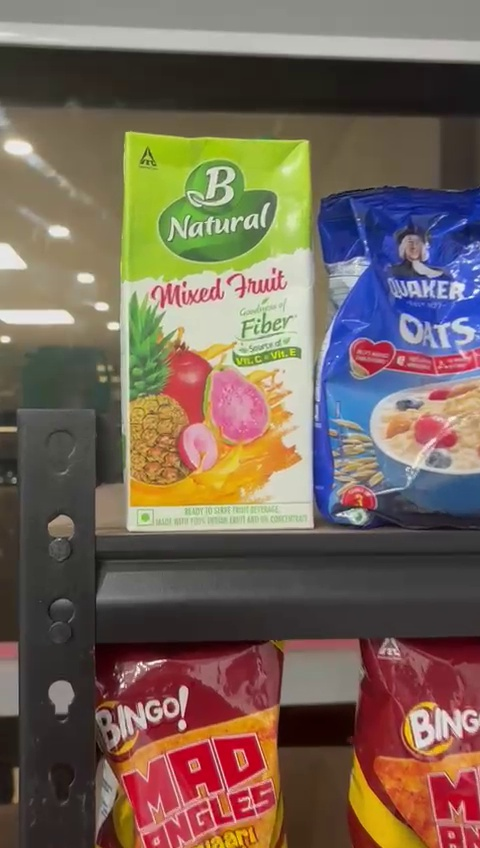Mixed Fruit: (120, 132, 312, 532)
